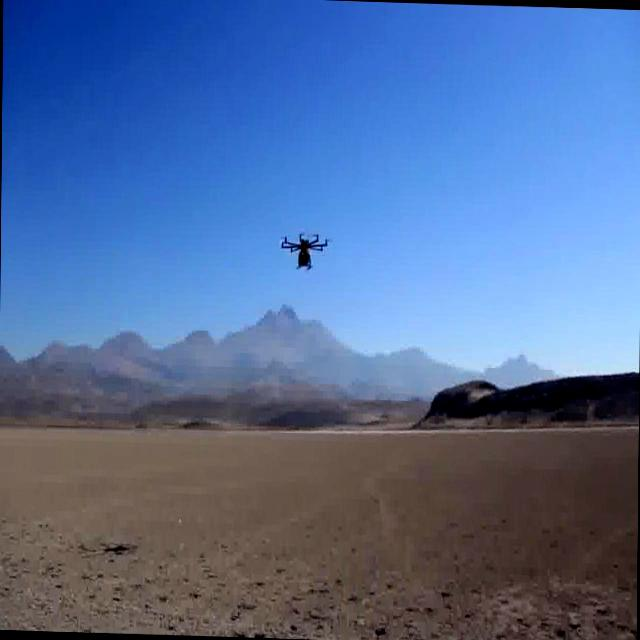drone: (274, 225, 331, 275)
